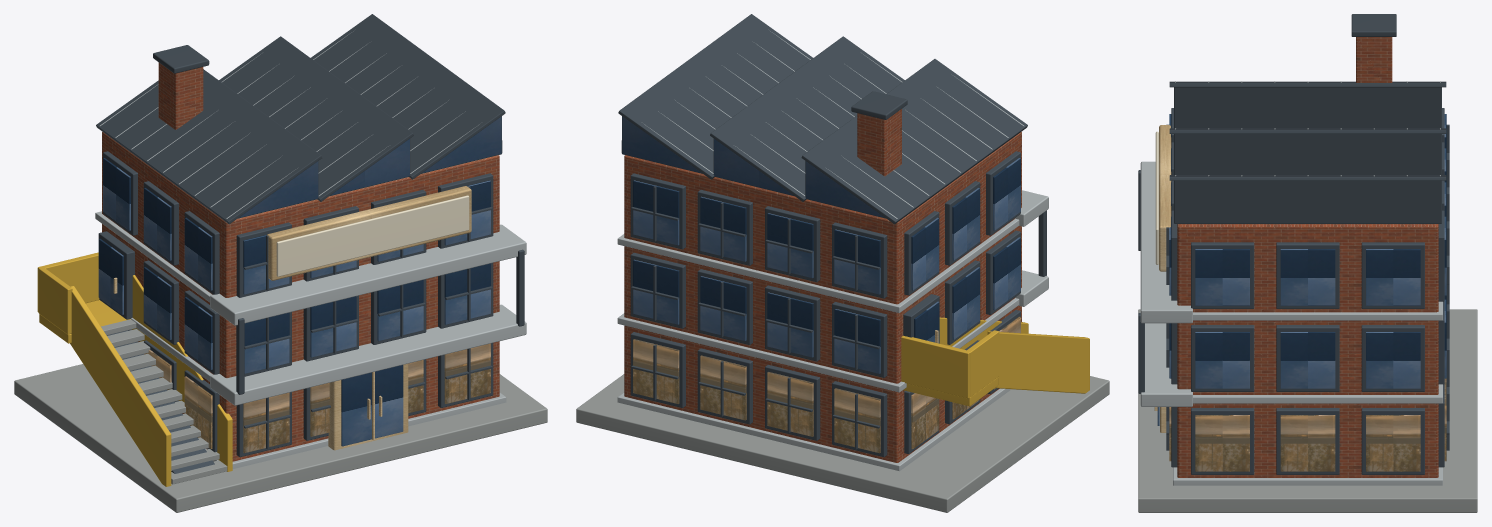
Rendered from level-3-web.glb.
3 views of the same model, side by side, from view 1: azimuth 30°, elevation 25°; view 2: azimuth 150°, elevation 25°; view 3: azimuth 270°, elevation 25° (orthographic). The views are drawn at different scales.
Visible parts, largest first — view 1: body, roof, entrance, floors, foundation, sign; view 2: body, roof, foundation, entrance, floors; view 3: body, roof, foundation, floors, sign.
Part boxes in pixels (x1,y1,x2,y2): body: (102,132,499,461); roof: (96,14,505,224); entrance: (37,231,408,486); floors: (95,211,526,468); foundation: (14,364,547,512); sign: (267,186,471,280); body: (624,132,1021,462); roof: (618,14,1027,224); foundation: (576,374,1109,512); entrance: (901,294,1089,406); floors: (617,190,1048,471); body: (1166,108,1449,477); roof: (1169,14,1446,223); foundation: (1138,309,1477,512); floors: (1138,161,1442,485); sign: (1155,125,1171,271).
Size of the model in its own units: 5.15 by 4.58 by 3.9.
Materials: 10 (4 with a texture image).
